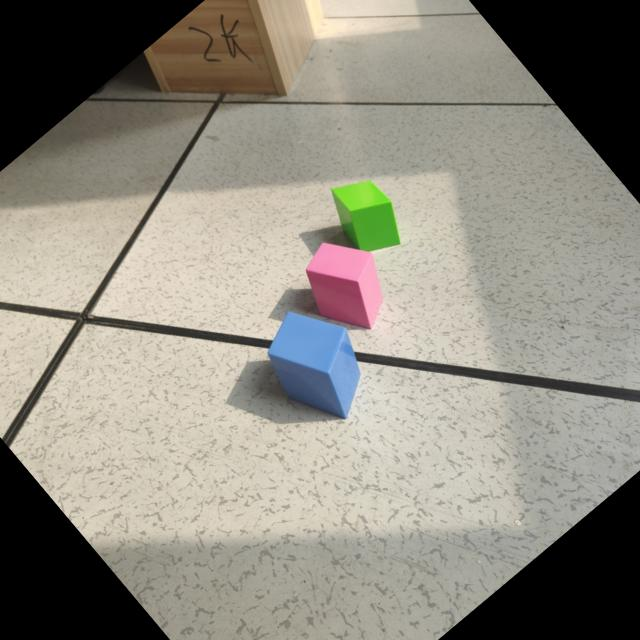blue: (268, 310, 362, 420)
green: (334, 177, 403, 248)
pink: (306, 240, 385, 330)
